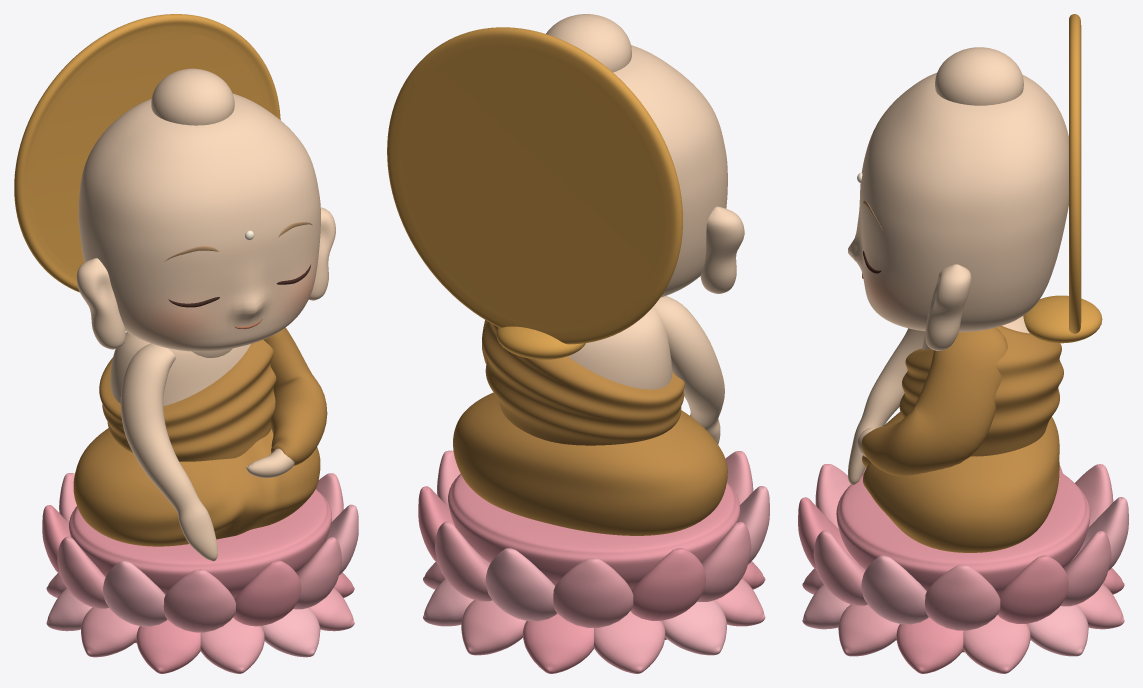
The model's file is chibi-thich-ca.glb.
3 views of the same model, side by side, from view 1: azimuth 30°, elevation 25°; view 2: azimuth 150°, elevation 25°; view 3: azimuth 270°, elevation 25° (orthographic). The views are drawn at different scales.
Parts seen in each view (by area): view 1: Shakyamuni | Chibi figurine; view 2: Shakyamuni | Chibi figurine; view 3: Shakyamuni | Chibi figurine.
Boxes of the visible parts, x1,y1,x2,y2 form: Shakyamuni | Chibi figurine: (14,14,358,673); Shakyamuni | Chibi figurine: (387,14,769,673); Shakyamuni | Chibi figurine: (798,14,1128,673).
Bounding box in the file's own units: 2.03 × 3.96 × 2.03.
